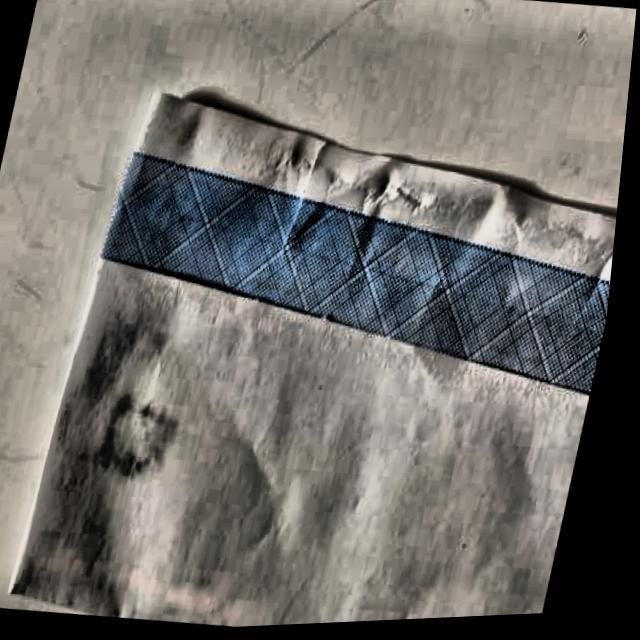Paper: (6, 58, 634, 638)
